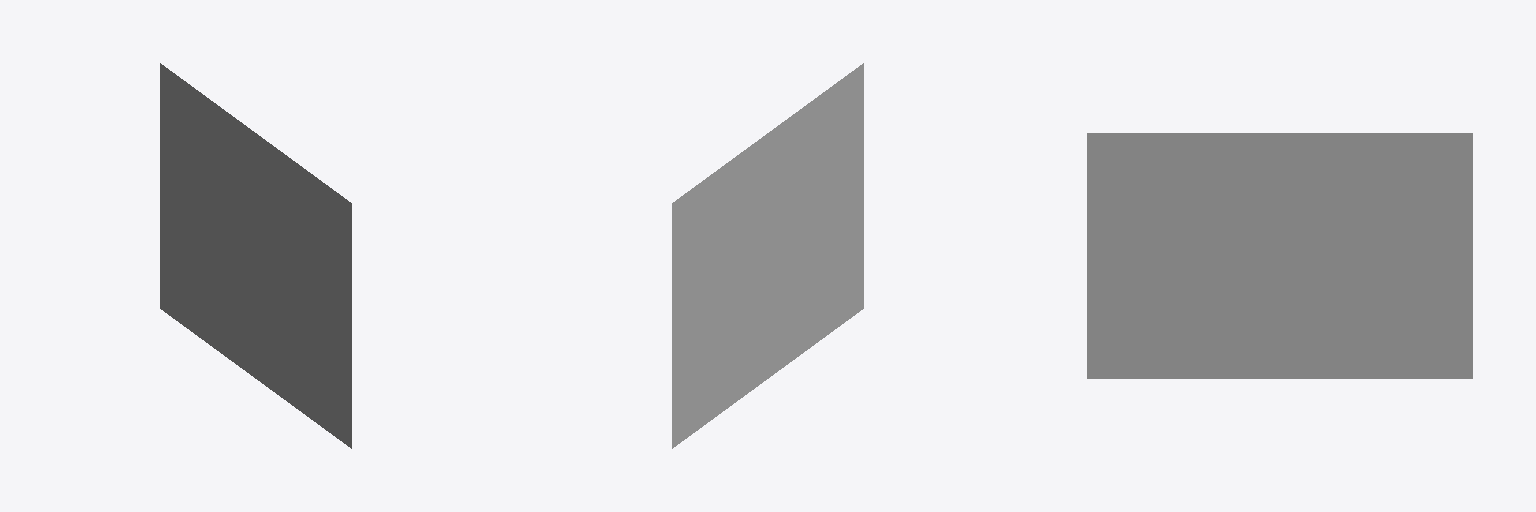
Rendered from LNE.obj.
3 views of the same model, side by side, from view 1: azimuth 30°, elevation 25°; view 2: azimuth 150°, elevation 25°; view 3: azimuth 270°, elevation 25° (orthographic).
Visible parts, largest first — view 1: pasted__pasted__pPlane1 pasted__group127 group128; view 2: pasted__pasted__pPlane1 pasted__group127 group128; view 3: pasted__pasted__pPlane1 pasted__group127 group128.
Boxes of the visible parts, <box> form: pasted__pasted__pPlane1 pasted__group127 group128: <box>160,63,351,448</box>; pasted__pasted__pPlane1 pasted__group127 group128: <box>672,63,863,448</box>; pasted__pasted__pPlane1 pasted__group127 group128: <box>1087,133,1472,378</box>.
Bounding box in the file's own units: 0 × 2.72 × 3.86.